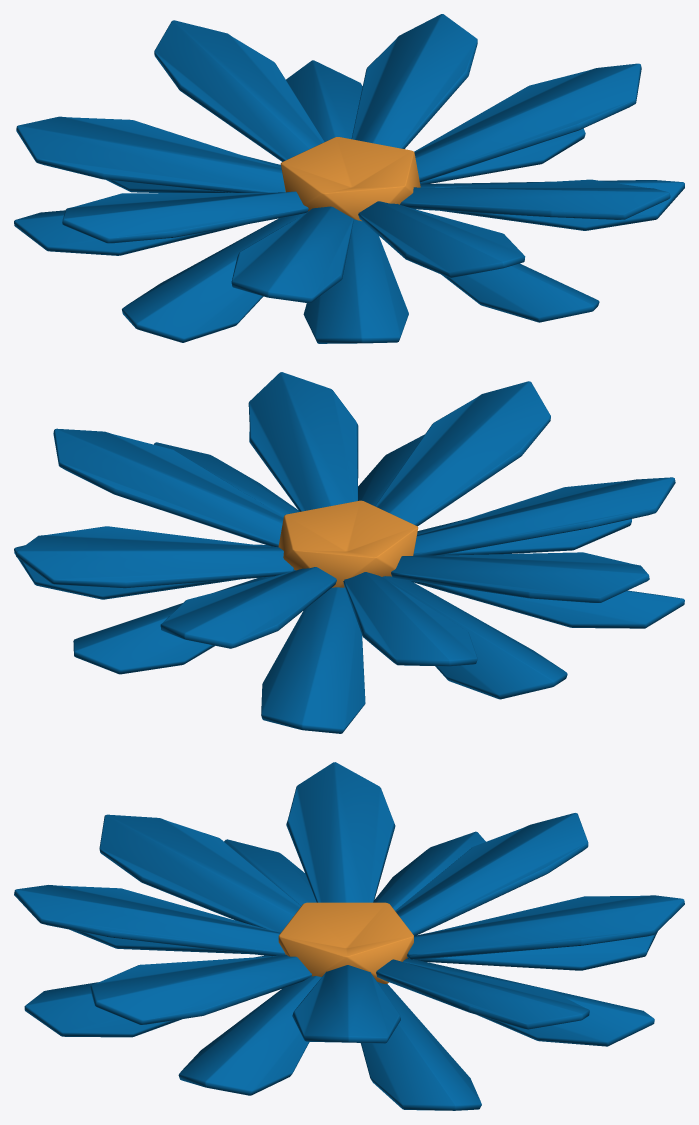
Rendered from Florecilla.fbx.
3 views of the same model, one above another, from view 1: azimuth 30°, elevation 25°; view 2: azimuth 150°, elevation 25°; view 3: azimuth 270°, elevation 25° (orthographic).
Parts seen in each view (by area): view 1: Flor.001; view 2: Flor.001; view 3: Flor.001.
Boxes of the visible parts, x1,y1,x2,y2 form: Flor.001: [14, 14, 684, 343]; Flor.001: [14, 372, 684, 733]; Flor.001: [14, 762, 684, 1110].
Size of the model in its own units: 96.07 by 16.23 by 96.06.
Materials: 1 (1 with a texture image).
